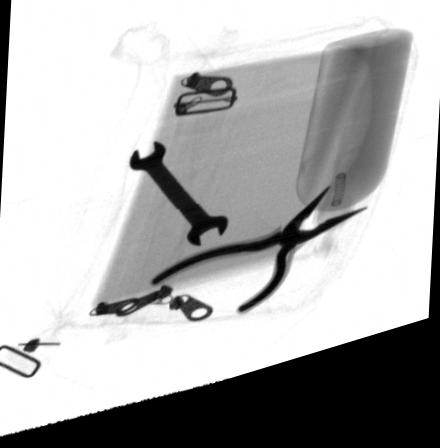Pliers: (151, 203, 368, 327)
Wrench: (129, 150, 229, 259)
